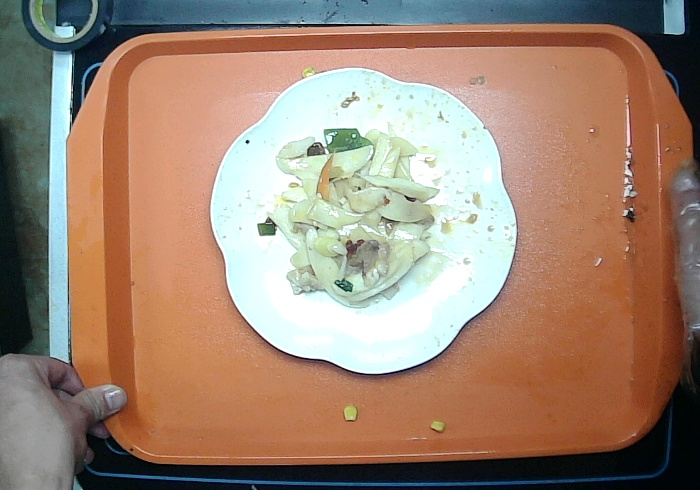HZYJPL-Bai_Se_Hua_Duo_Wan: (208, 65, 519, 376)
